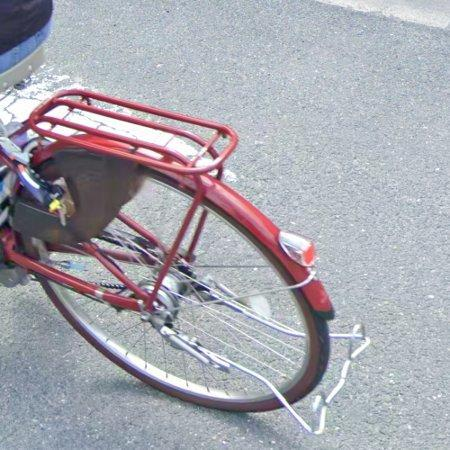bicycles: (0, 88, 335, 423)
